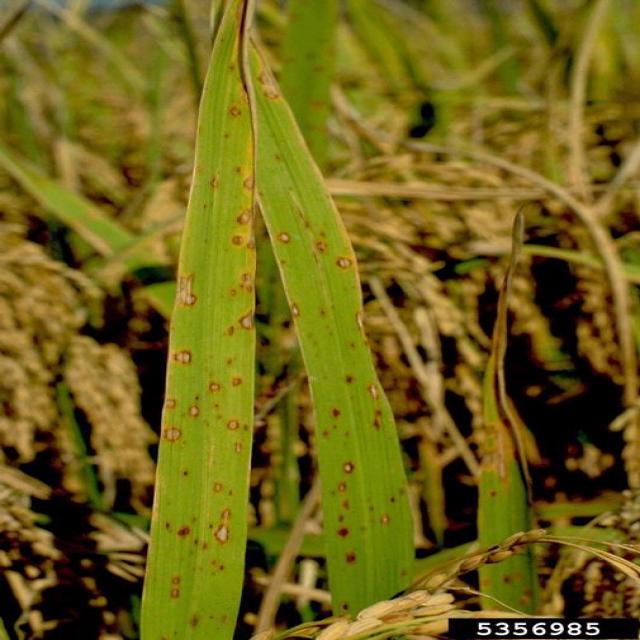Brown spot: (176, 272, 204, 310), (211, 509, 237, 542), (168, 339, 192, 366), (223, 98, 250, 120), (160, 421, 185, 444), (292, 204, 314, 229), (240, 307, 258, 333), (240, 270, 258, 294), (228, 210, 254, 226), (496, 573, 530, 584), (224, 231, 244, 249), (229, 436, 247, 456), (332, 256, 354, 272), (326, 404, 348, 420), (273, 227, 293, 244), (343, 547, 359, 567), (290, 300, 305, 321), (179, 520, 193, 542), (219, 320, 238, 336), (209, 559, 228, 575), (215, 127, 235, 142), (261, 90, 286, 102), (368, 380, 383, 400), (258, 70, 276, 86), (236, 177, 258, 190), (311, 240, 333, 253), (205, 380, 224, 395), (354, 310, 368, 330), (339, 460, 358, 474), (164, 570, 183, 584), (334, 479, 351, 494), (220, 62, 241, 74), (185, 406, 203, 420), (334, 524, 352, 538), (207, 175, 222, 191), (396, 565, 413, 579), (339, 599, 356, 613), (163, 395, 178, 410), (379, 511, 394, 526), (228, 375, 244, 389), (186, 611, 199, 628), (227, 164, 249, 174), (208, 479, 222, 494), (330, 512, 347, 524), (223, 421, 241, 432), (316, 429, 334, 440), (487, 486, 501, 500), (338, 497, 352, 511), (344, 371, 357, 386), (221, 612, 234, 627), (222, 356, 236, 368), (324, 324, 336, 338), (370, 420, 388, 429), (278, 255, 290, 268), (178, 467, 191, 479), (397, 484, 409, 497), (248, 239, 259, 252), (316, 308, 330, 318), (200, 201, 213, 211), (162, 521, 176, 530), (228, 287, 240, 297), (226, 488, 238, 498), (346, 343, 362, 350), (212, 400, 222, 411), (272, 154, 284, 163), (360, 523, 370, 533), (318, 230, 329, 239), (374, 407, 385, 416), (365, 503, 376, 512), (170, 626, 181, 635), (342, 431, 352, 440), (212, 414, 224, 421), (330, 424, 344, 430), (202, 542, 209, 554), (191, 393, 201, 401), (385, 497, 396, 504), (207, 614, 216, 621), (244, 423, 250, 432), (258, 190, 265, 197), (365, 497, 373, 501)
